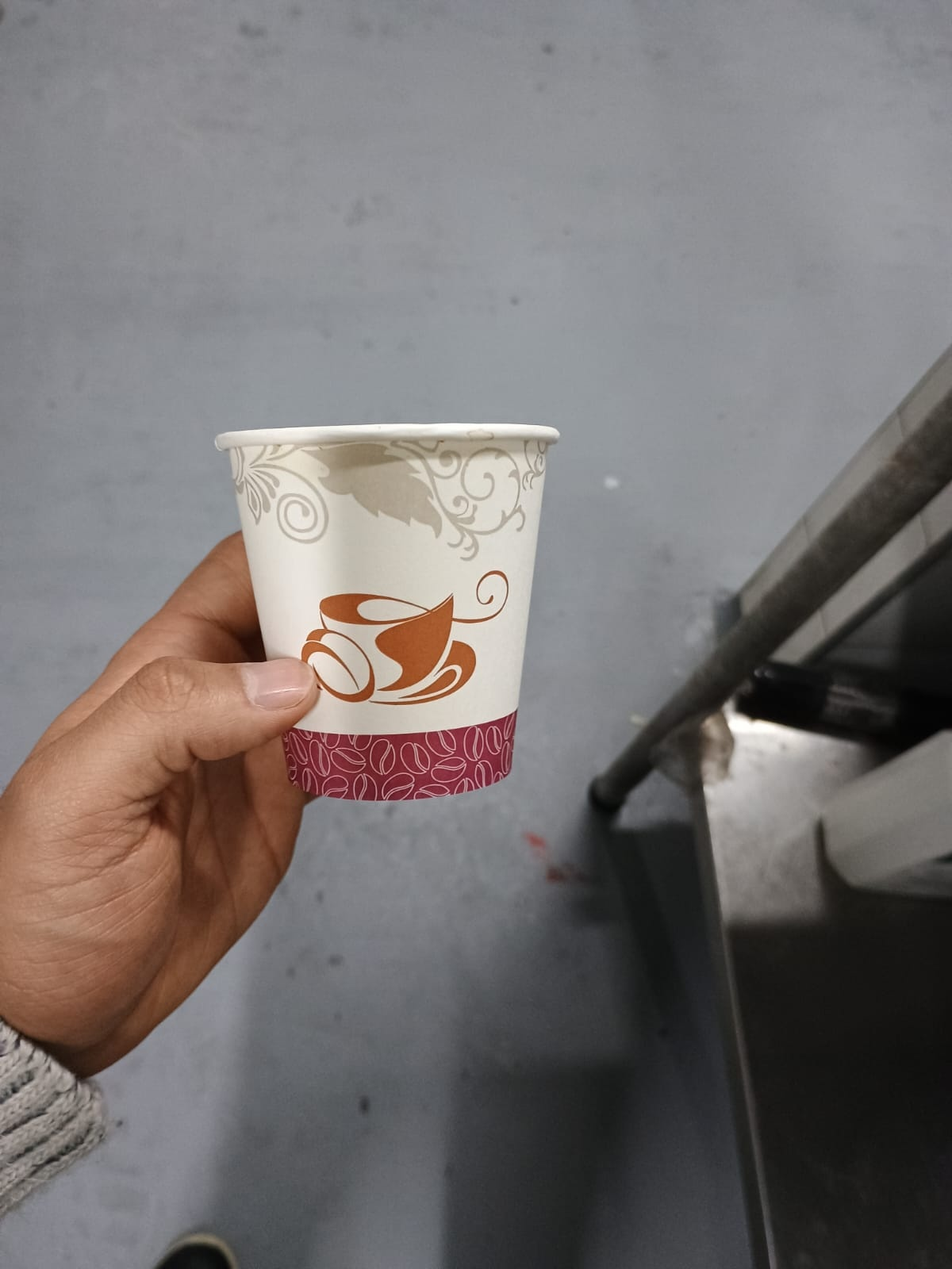Carton: (212, 425, 563, 802)
